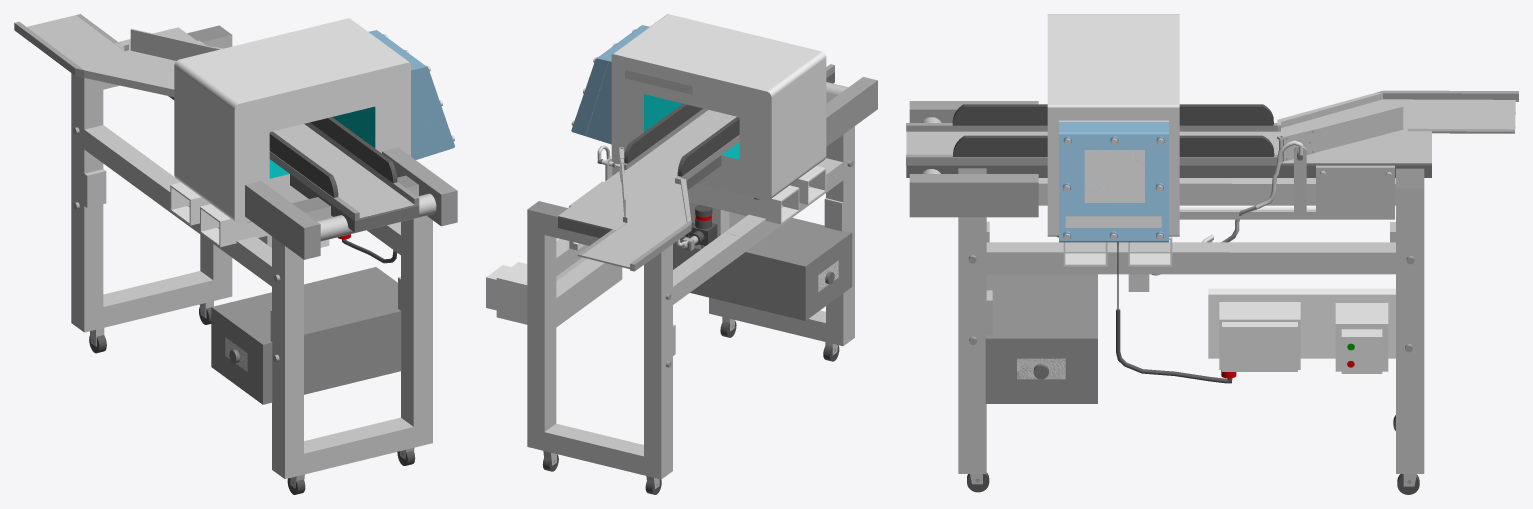
3 renders of one model, left to right at view 1: azimuth 30°, elevation 25°; view 2: azimuth 150°, elevation 25°; view 3: azimuth 270°, elevation 25°, orthographic. The views are drawn at different scales.
Parts seen in each view (by area): view 1: group_37_001, group_31, group_27, group_21, group_19_003, group_52_001, group_20, group_33, group_37_005, group_17, group_19_001, group_3_001 (+9 smaller); view 2: group_37_001, group_27, group_21, group_31, group_19_003, group_52_001, group_35, group_20, group_22_004, group_37_005, group_17, group_37_003 (+9 smaller); view 3: group_37_001, group_31, group_27, group_21, group_37_005, group_22, group_33, group_18_001, group_52_001, group_19_003, group_19_001, group_51 (+16 smaller).
Part boxes in pixels (bbox=[...]): group_37_001: bbox=[174, 18, 410, 223]; group_31: bbox=[160, 180, 432, 478]; group_27: bbox=[71, 35, 232, 332]; group_21: bbox=[211, 267, 401, 404]; group_19_003: bbox=[114, 27, 413, 217]; group_52_001: bbox=[27, 15, 174, 96]; group_20: bbox=[245, 181, 320, 259]; group_33: bbox=[382, 147, 457, 226]; group_37_005: bbox=[368, 30, 454, 152]; group_17: bbox=[310, 117, 397, 183]; group_19_001: bbox=[269, 122, 418, 220]; group_3_001: bbox=[130, 28, 214, 60]; group_37_001: bbox=[611, 14, 826, 200]; group_27: bbox=[527, 209, 774, 479]; group_21: bbox=[673, 212, 852, 320]; group_31: bbox=[709, 126, 854, 346]; group_19_003: bbox=[558, 110, 736, 230]; group_52_001: bbox=[577, 177, 690, 271]; group_35: bbox=[612, 166, 799, 224]; group_20: bbox=[826, 77, 877, 146]; group_22_004: bbox=[496, 262, 527, 324]; group_37_005: bbox=[571, 25, 649, 135]; group_17: bbox=[624, 103, 702, 163]; group_37_003: bbox=[585, 59, 611, 144]; group_37_001: bbox=[1047, 14, 1179, 236]; group_31: bbox=[958, 178, 1231, 473]; group_27: bbox=[1230, 178, 1424, 473]; group_21: bbox=[985, 274, 1097, 403]; group_37_005: bbox=[1059, 124, 1168, 242]; group_22: bbox=[1208, 288, 1395, 358]; group_33: bbox=[909, 174, 1038, 217]; group_18_001: bbox=[1179, 165, 1394, 219]; group_52_001: bbox=[1277, 93, 1518, 131]; group_19_003: bbox=[906, 129, 1431, 163]; group_19_001: bbox=[906, 123, 1277, 165]; group_51: bbox=[952, 104, 1273, 125].
Bounding box in the file's own units: 0.6178 × 1.28 × 0.9378.
